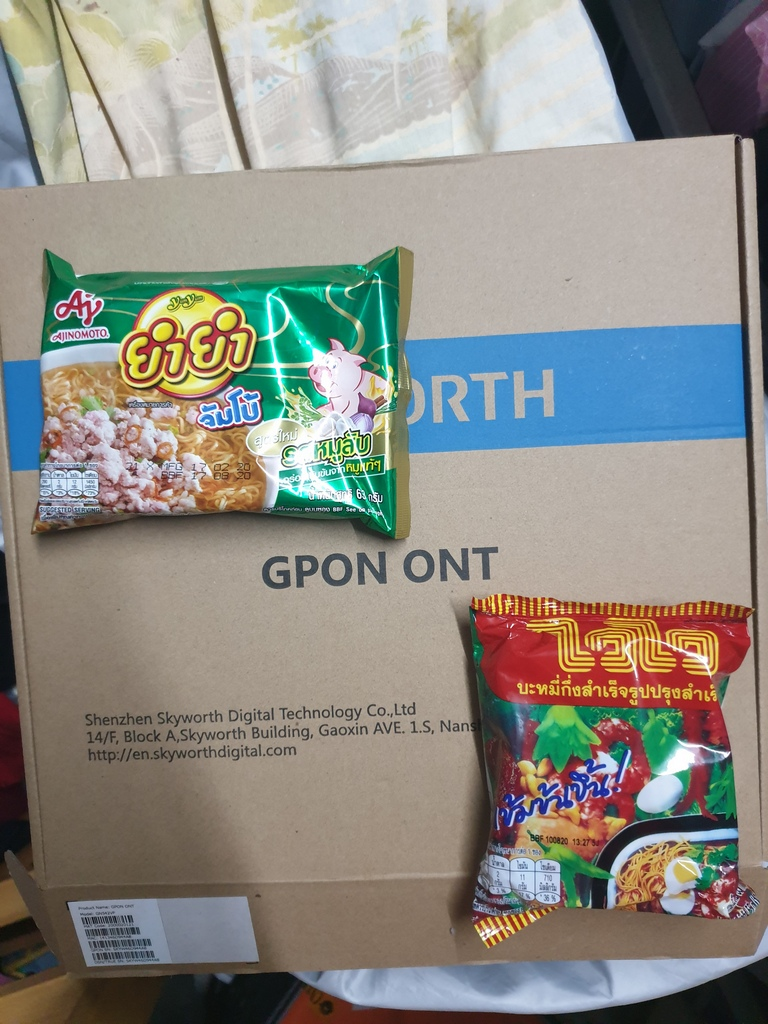waiwai: (466, 595, 757, 937)
yumyum: (29, 249, 411, 542)
